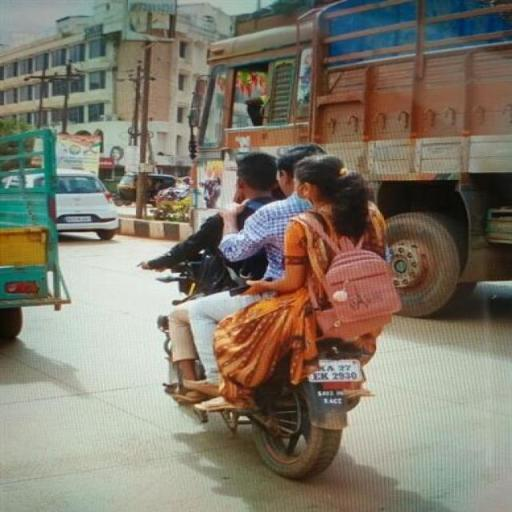tripple riding: (135, 142, 406, 332)
